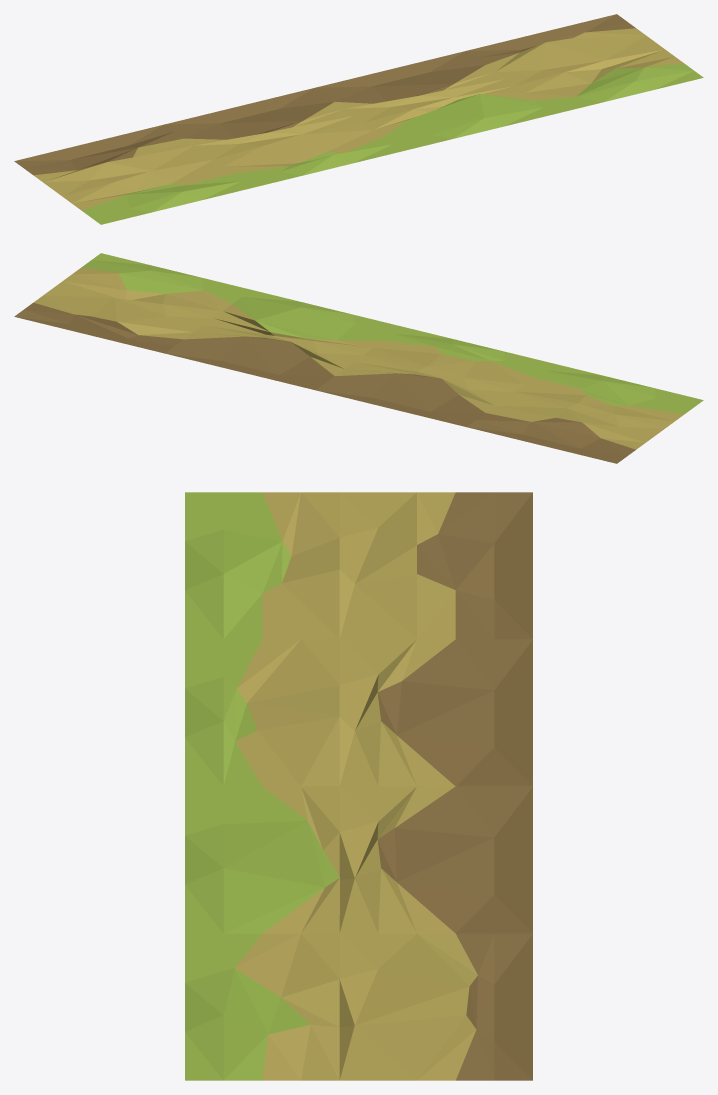
The model's file is groundlayer3.dae.
3 renders of one model, top to bottom at view 1: azimuth 30°, elevation 25°; view 2: azimuth 150°, elevation 25°; view 3: azimuth 270°, elevation 25°, orthographic. The views are drawn at different scales.
Visible parts, largest first — view 1: Plane.002, Plane.001, Plane.003, Plane; view 2: Plane.002, Plane.001, Plane.003, Plane; view 3: Plane.003, Plane.002, Plane.001, Plane.
Boxes of the visible parts, left/top/right/bottom form: Plane.002: left=316, top=51, right=552, bottom=151; Plane.001: left=165, top=87, right=401, bottom=187; Plane.003: left=466, top=14, right=703, bottom=114; Plane: left=14, top=124, right=251, bottom=224; Plane.002: left=165, top=290, right=401, bottom=390; Plane.001: left=316, top=326, right=552, bottom=426; Plane.003: left=14, top=253, right=251, bottom=353; Plane: left=466, top=363, right=703, bottom=463; Plane.003: left=185, top=933, right=532, bottom=1080; Plane.002: left=185, top=786, right=532, bottom=933; Plane.001: left=185, top=639, right=532, bottom=786; Plane: left=185, top=492, right=532, bottom=639.
Size of the model in its own units: 8 by 2 by 0.1126.
